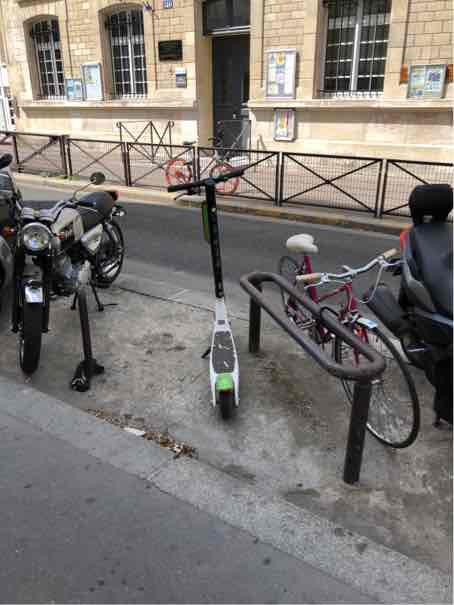scooter: (163, 171, 249, 424)
